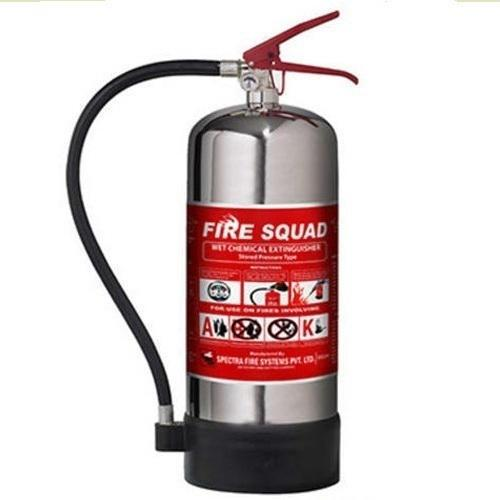Fire Extinguisher: (63, 7, 356, 500)
